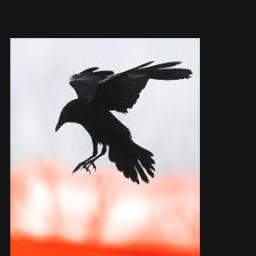Crow: (55, 59, 192, 184)
